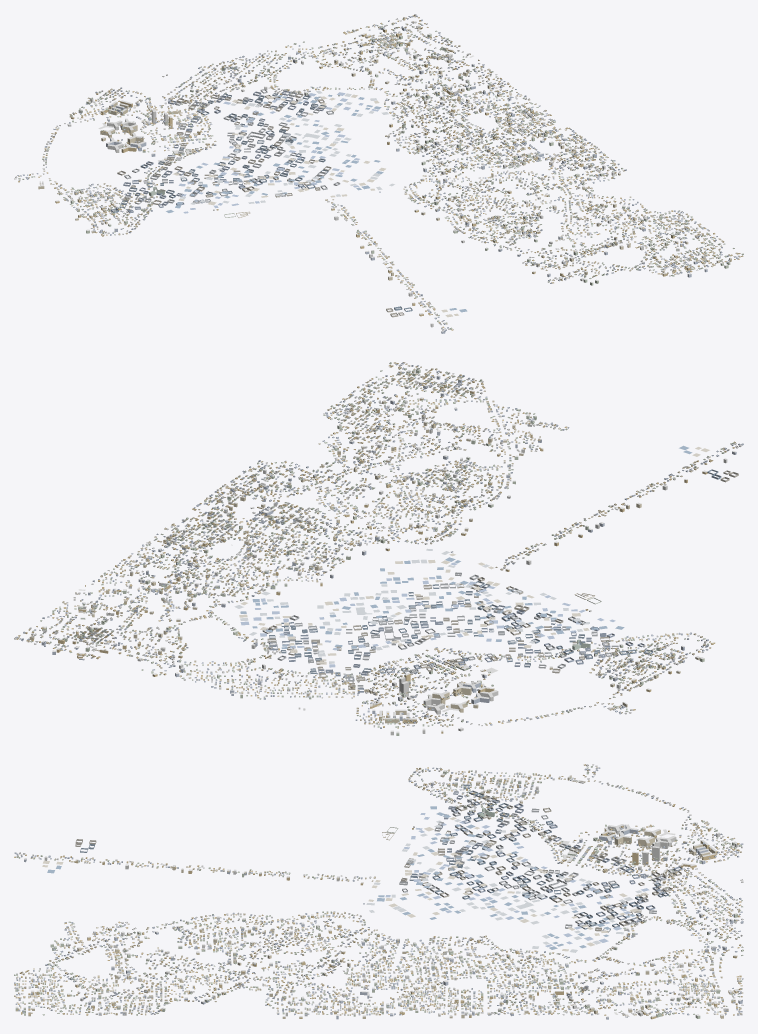
The picture shows the model from 3 angles, top to bottom: view 1: azimuth 30°, elevation 25°; view 2: azimuth 150°, elevation 25°; view 3: azimuth 270°, elevation 25°; orthographic projection. The views are drawn at different scales.
Visible parts, largest first — view 1: house, roof_zinc, factory, apartment, roof_flat; view 2: house, roof_zinc, factory, apartment, roof_flat; view 3: house, roof_zinc, factory, apartment, roof_flat.
Boxes of the visible parts, x1=… form: house: x1=14, y1=14, x2=743, y2=331; roof_zinc: x1=15, y1=14, x2=742, y2=331; factory: x1=110, y1=54, x2=419, y2=317; apartment: x1=38, y1=26, x2=731, y2=333; roof_flat: x1=38, y1=25, x2=731, y2=331; house: x1=14, y1=362, x2=743, y2=728; roof_zinc: x1=15, y1=362, x2=742, y2=728; factory: x1=107, y1=469, x2=738, y2=692; apartment: x1=29, y1=370, x2=736, y2=735; roof_flat: x1=30, y1=369, x2=736, y2=733; house: x1=14, y1=764, x2=743, y2=1015; roof_zinc: x1=14, y1=764, x2=742, y2=1014; factory: x1=75, y1=784, x2=682, y2=994; apartment: x1=15, y1=771, x2=742, y2=1019; roof_flat: x1=15, y1=770, x2=741, y2=1017.
Size of the model in its own units: 1.18e+08 by 2940666 by 1.45e+08.
